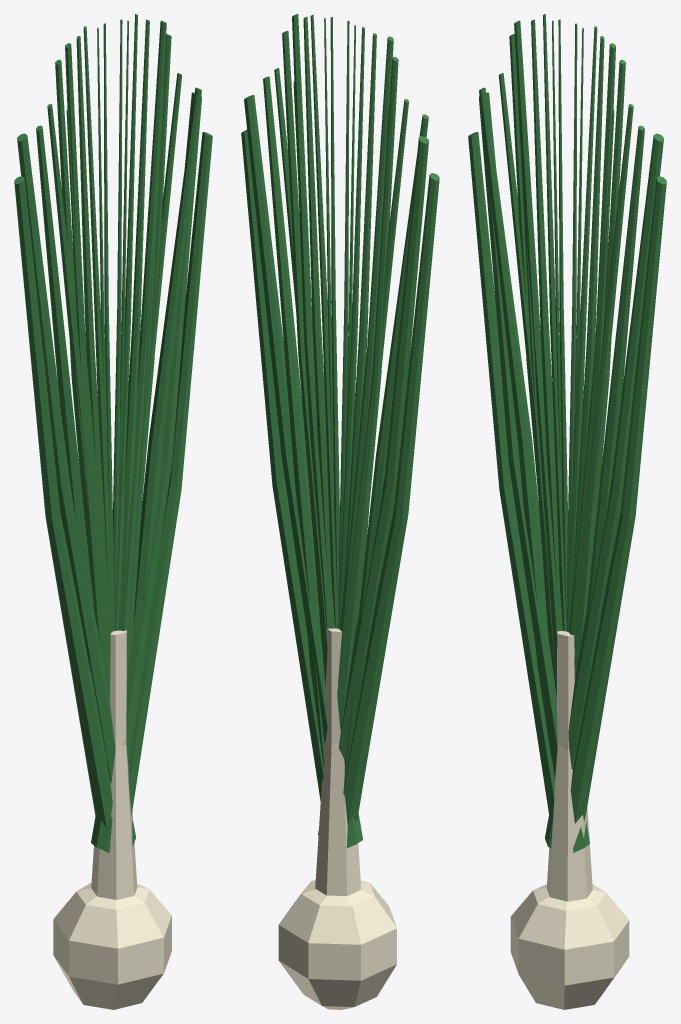
The model's file is onion.fbx.
3 renders of one model, left to right at view 1: azimuth 30°, elevation 25°; view 2: azimuth 150°, elevation 25°; view 3: azimuth 330°, elevation 25°, orthographic.
Visible parts, largest first — view 1: onion; view 2: onion; view 3: onion.
Part boxes in pixels (left/top/right/bottom): onion: left=14, top=14, right=212, bottom=1009; onion: left=241, top=14, right=439, bottom=1009; onion: left=468, top=14, right=666, bottom=1009.
Bounding box in the file's own units: 35.55 × 169 × 18.08.
